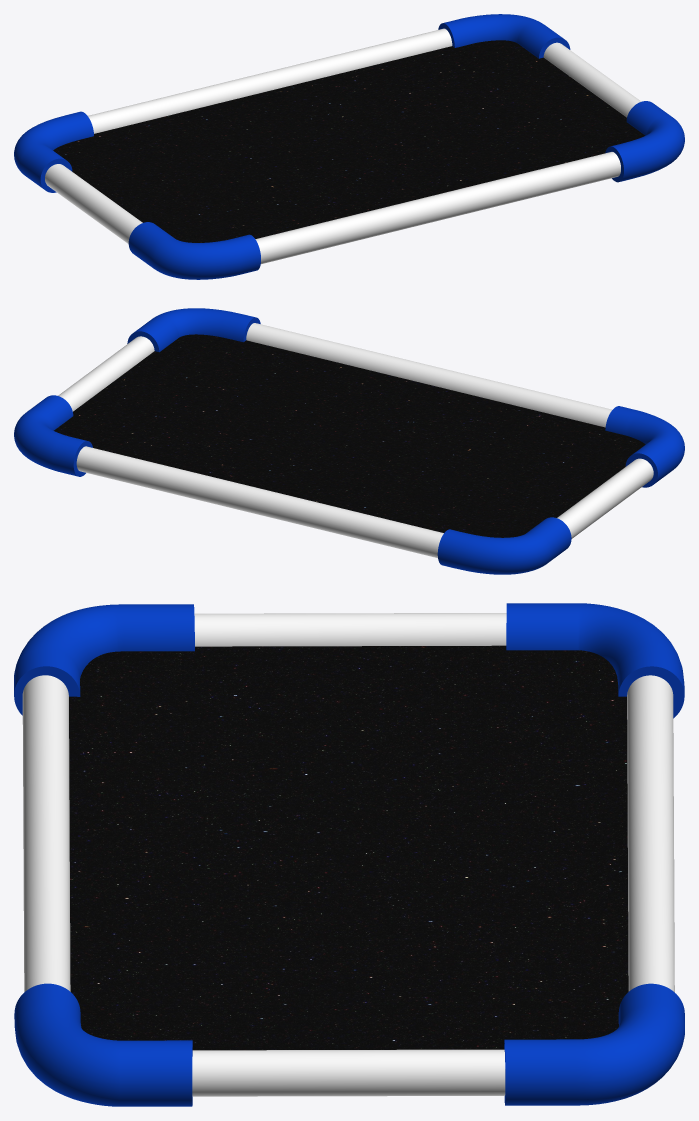
File: BuracoAzul.fbx
3 views of the same model, one above another, from view 1: azimuth 30°, elevation 25°; view 2: azimuth 150°, elevation 25°; view 3: azimuth 270°, elevation 25° (orthographic). The views are drawn at different scales.
Visible parts, largest first — view 1: Plane_2, Sweep_2_3, Sweep_3_2, Sweep_2_2, Sweep_4_2, Sweep_1_2; view 2: Plane_2, Sweep_2_3, Sweep_4_2, Sweep_1_2, Sweep_3_2, Sweep_2_2; view 3: Plane_2, Sweep_2_3, Sweep_1_2, Sweep_2_2, Sweep_3_2, Sweep_4_2, Cap_2_5, Cap_1_6.
Boxes of the visible parts, x1,y1,x2,y2 form: Plane_2: [53, 40, 644, 242]; Sweep_2_3: [45, 28, 641, 264]; Sweep_3_2: [128, 222, 260, 279]; Sweep_2_2: [611, 101, 684, 181]; Sweep_4_2: [14, 111, 93, 188]; Sweep_1_2: [443, 14, 563, 58]; Plane_2: [54, 334, 645, 537]; Sweep_2_3: [58, 323, 653, 557]; Sweep_4_2: [437, 517, 571, 574]; Sweep_1_2: [14, 395, 86, 476]; Sweep_3_2: [605, 406, 684, 483]; Sweep_2_2: [134, 308, 254, 351]; Plane_2: [69, 645, 628, 1050]; Sweep_2_3: [22, 613, 674, 1096]; Sweep_1_2: [504, 983, 684, 1105]; Sweep_2_2: [14, 983, 192, 1106]; Sweep_3_2: [14, 604, 194, 695]; Sweep_4_2: [506, 603, 684, 695]; Cap_2_5: [618, 666, 684, 718]; Cap_1_6: [14, 666, 80, 715].
Bounding box in the file's own units: 1665 × 100 × 1015.
Materials: 3 (1 with a texture image).
